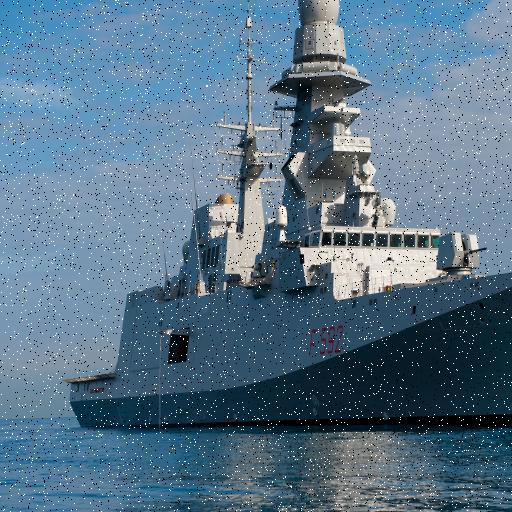Fragata: (1, 1, 425, 440)
